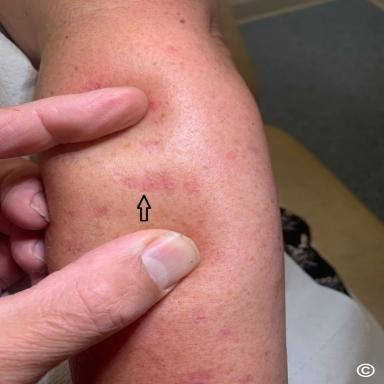Porokeratosis: (112, 167, 200, 196), (140, 139, 159, 150), (93, 206, 107, 217)
